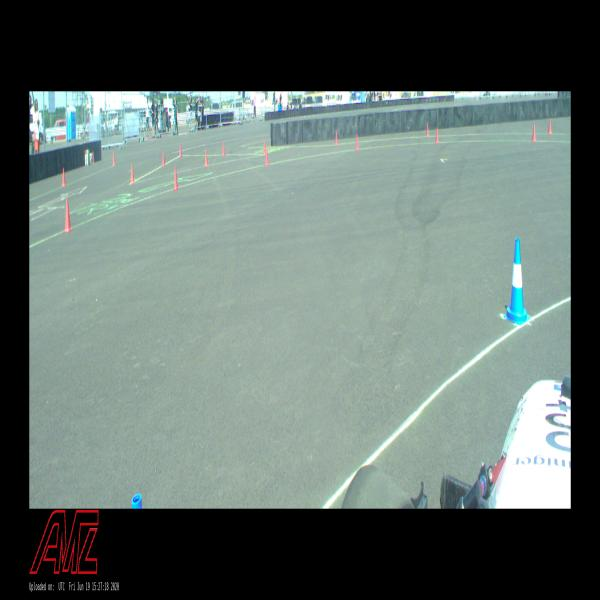blue_cone: (504, 238, 530, 325)
unknown_cone: (63, 200, 72, 231), (172, 168, 179, 190), (130, 164, 135, 183), (265, 147, 269, 165), (62, 168, 66, 186), (204, 149, 208, 166), (532, 124, 536, 141), (355, 134, 359, 150), (435, 127, 439, 143), (548, 120, 552, 134), (162, 152, 165, 167), (222, 141, 225, 155), (263, 140, 266, 154), (179, 143, 182, 156), (335, 132, 338, 144), (427, 123, 429, 136), (113, 153, 115, 165), (93, 151, 94, 163)
